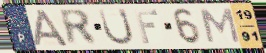6: (172, 6, 203, 46)
A: (32, 8, 71, 47)
F: (132, 9, 160, 45)
M: (198, 7, 242, 45)
R: (56, 8, 100, 47)
U: (97, 7, 136, 46)
